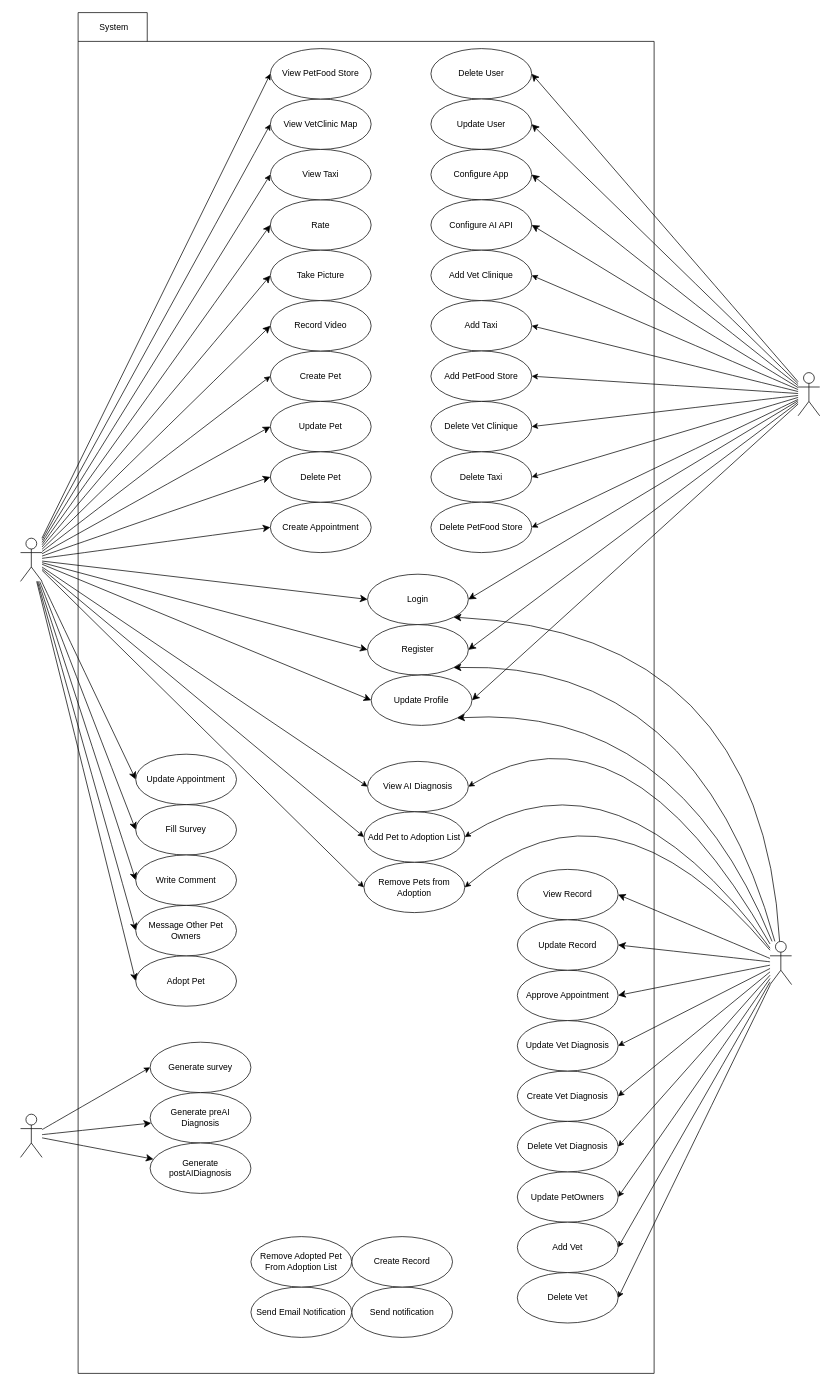
Image size: 834x1386. Some labels were removed from this diagram. Each missing label, with the centre of its shape:
Admin: (808,394)
AI: (31,1135)
PetOwner: (31,559)
Vet: (780,963)
